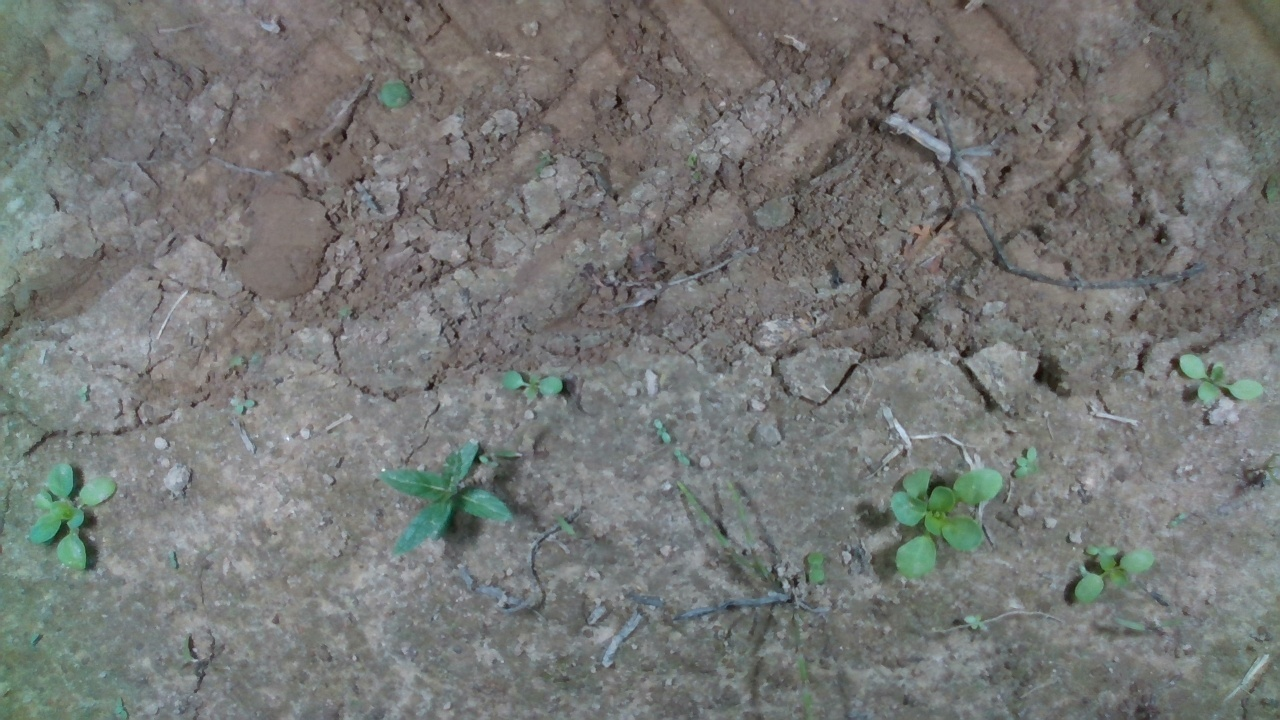weed: (1176, 352, 1265, 404), (500, 369, 564, 401), (1011, 444, 1042, 479), (227, 389, 256, 415), (805, 549, 826, 584), (963, 611, 989, 633), (653, 418, 671, 445), (671, 447, 690, 467)
